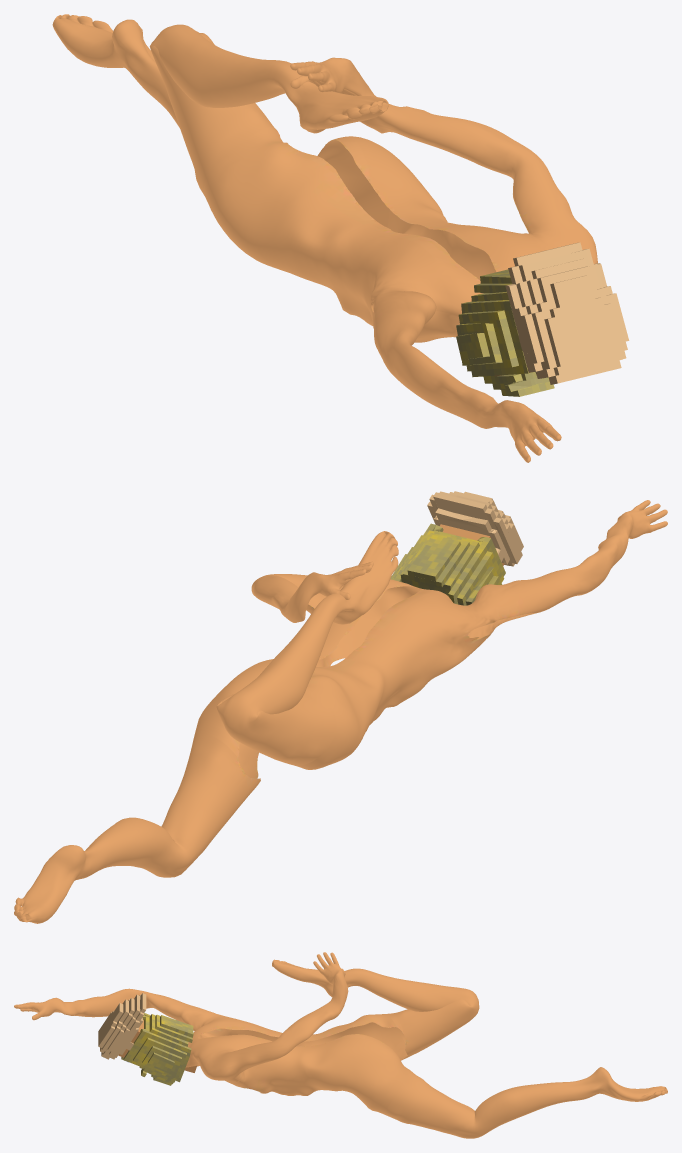
File: cybergesu-900-opt-v11.glb
The picture shows the model from 3 angles, top to bottom: view 1: azimuth 30°, elevation 25°; view 2: azimuth 150°, elevation 25°; view 3: azimuth 270°, elevation 25°; orthographic projection. The views are drawn at different scales.
Parts seen in each view (by area): view 1: CYBGS; view 2: CYBGS; view 3: CYBGS.
Boxes of the visible parts, x1,y1,x2,y2 form: CYBGS: (52,14,629,462); CYBGS: (14,491,667,923); CYBGS: (14,952,667,1138).
Bounding box in the file's own units: 1.33 × 1.39 × 5.2.
2 materials, 2 textured.
